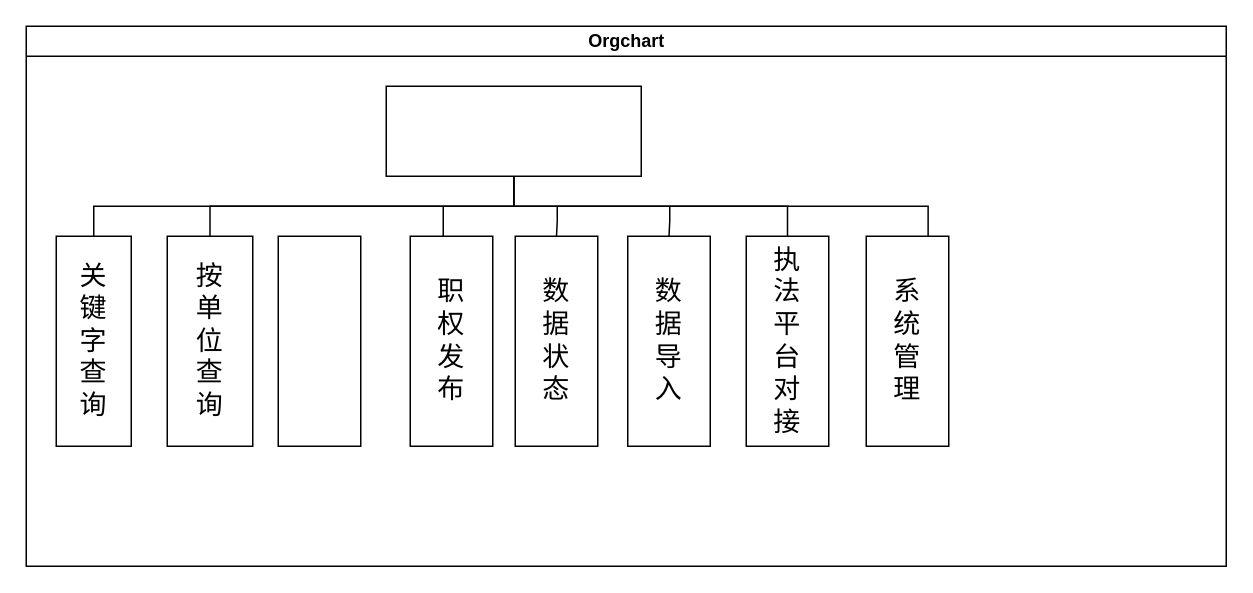
This 1253x593 diagram has some shape labels left out. The shapes that lost their labels are listed below. From the top down, each one's centre as x and y in pixels, then its label:
At pixel 513 130: "权责公众查询 系统".
At pixel 319 340: "政 策 文 件 发 布".
